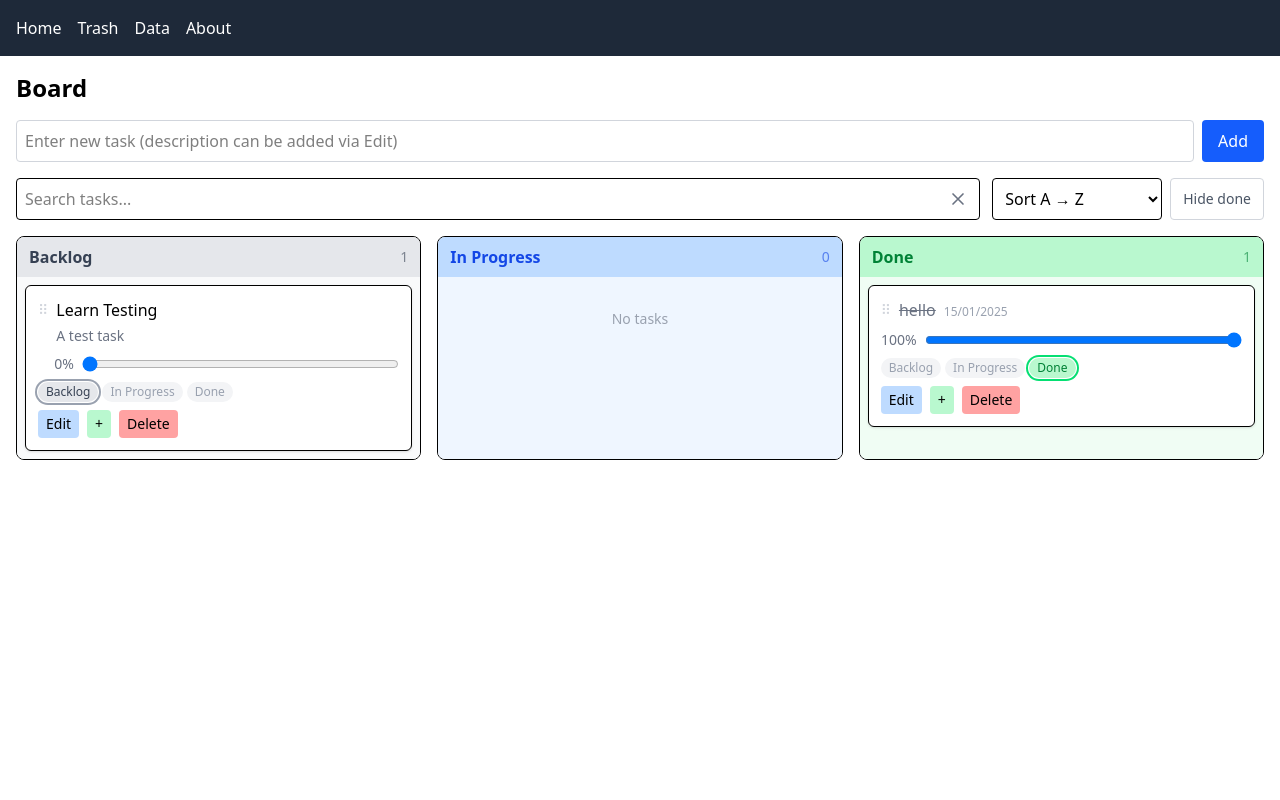
Test: opens edit modal when edit is clicked
Step 1. Click the button "Edit" below "A test task" → click(59, 424), box [38, 410, 79, 438]
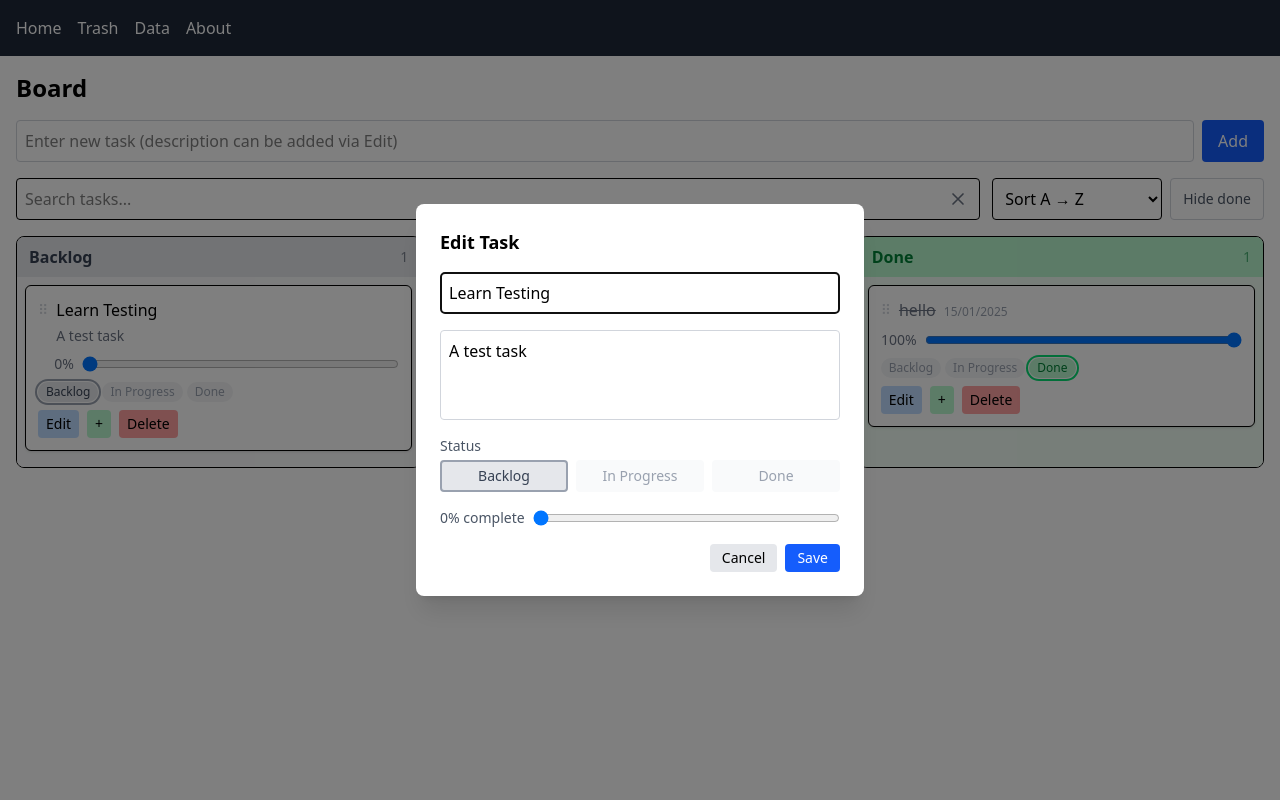
Result: the dialog is shown at [416, 204, 864, 596]
Result: the field showing "Learn Testing" is shown at [440, 272, 840, 314]
